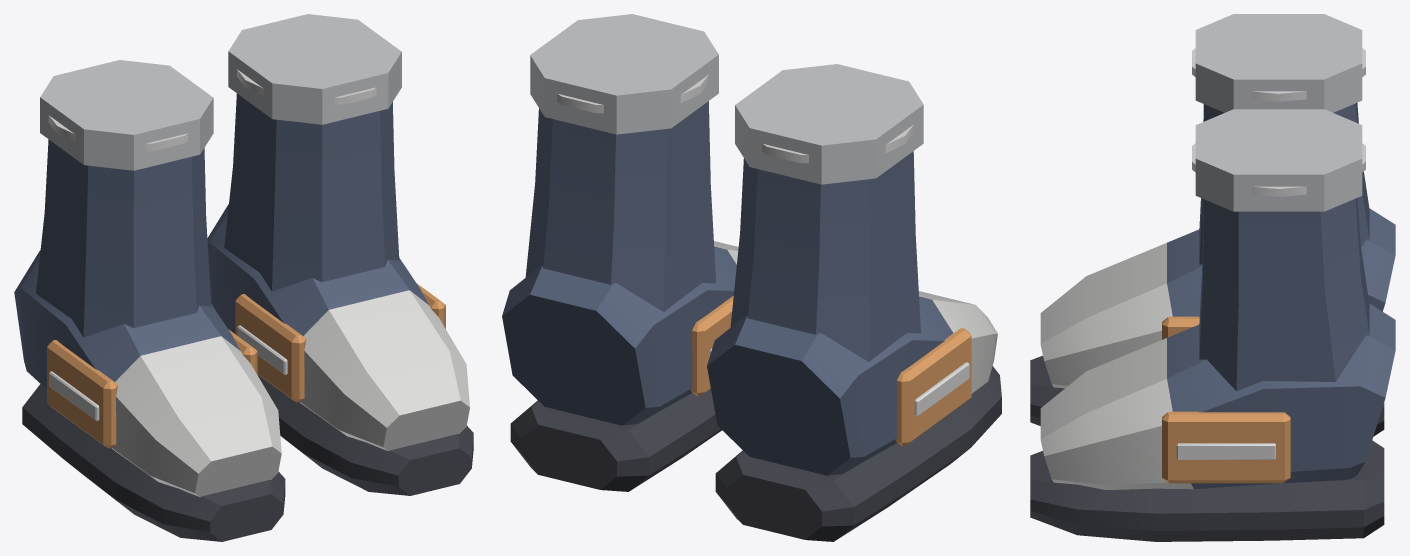
Rendered from gear_bottes.glb.
3 views of the same model, side by side, from view 1: azimuth 30°, elevation 25°; view 2: azimuth 150°, elevation 25°; view 3: azimuth 270°, elevation 25° (orthographic). The views are drawn at different scales.
Parts seen in each view (by area): view 1: shin_r__bottes, shin_l__bottes, shin_r__bottes_glow, shin_l__bottes_glow; view 2: shin_r__bottes, shin_l__bottes, shin_r__bottes_glow, shin_l__bottes_glow; view 3: shin_l__bottes, shin_r__bottes, shin_l__bottes_glow, shin_r__bottes_glow.
Boxes of the visible parts, bbox=[...] form: shin_r__bottes: bbox=[14, 60, 285, 541]; shin_l__bottes: bbox=[207, 14, 473, 495]; shin_r__bottes_glow: bbox=[48, 115, 188, 420]; shin_l__bottes_glow: bbox=[237, 69, 376, 374]; shin_r__bottes: bbox=[707, 64, 1001, 541]; shin_l__bottes: bbox=[502, 14, 738, 491]; shin_r__bottes_glow: bbox=[762, 124, 969, 416]; shin_l__bottes_glow: bbox=[557, 74, 712, 355]; shin_l__bottes: bbox=[1030, 109, 1395, 541]; shin_r__bottes: bbox=[1030, 14, 1395, 436]; shin_l__bottes_glow: bbox=[1176, 143, 1365, 459]; shin_r__bottes_glow: bbox=[1192, 48, 1365, 101].
Bounding box in the file's own units: 0.285 × 0.282 × 0.2497.
